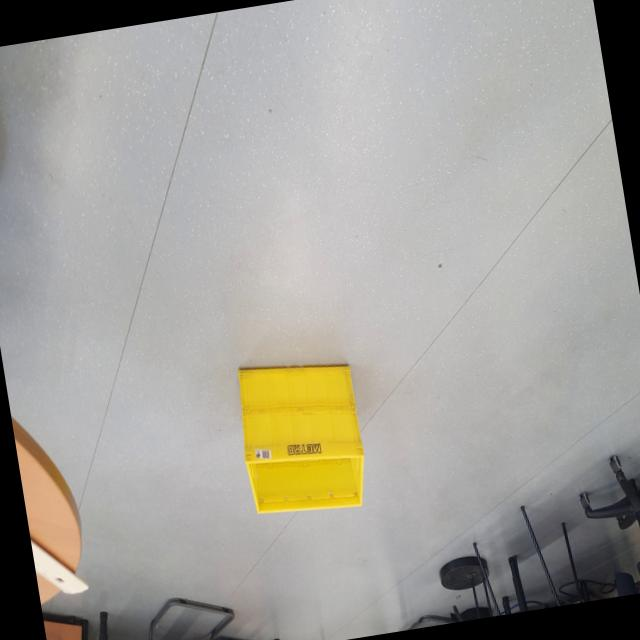box: (222, 326, 381, 546)
